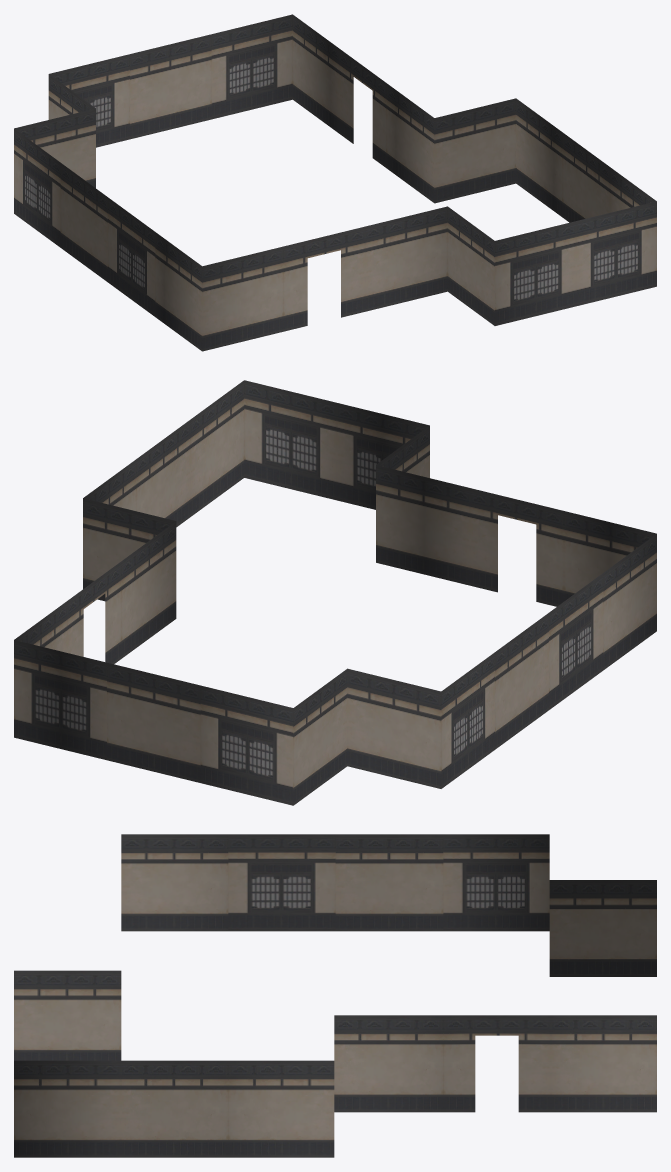
The model's file is Homeworld_Interior_Dq_Room_F_Filling_01_Vo.fbx.
3 renders of one model, top to bottom at view 1: azimuth 30°, elevation 25°; view 2: azimuth 150°, elevation 25°; view 3: azimuth 270°, elevation 25°, orthographic. The views are drawn at different scales.
Visible parts, largest first — view 1: Homeworld_Interior_Dq_Room_F_Filling_01_Vo; view 2: Homeworld_Interior_Dq_Room_F_Filling_01_Vo; view 3: Homeworld_Interior_Dq_Room_F_Filling_01_Vo.
Boxes of the visible parts, <box> form: Homeworld_Interior_Dq_Room_F_Filling_01_Vo: <box>14,14,656,351</box>; Homeworld_Interior_Dq_Room_F_Filling_01_Vo: <box>14,380,656,805</box>; Homeworld_Interior_Dq_Room_F_Filling_01_Vo: <box>14,834,656,1157</box>.
Size of the model in its own units: 24.91 by 4.98 by 29.92.
